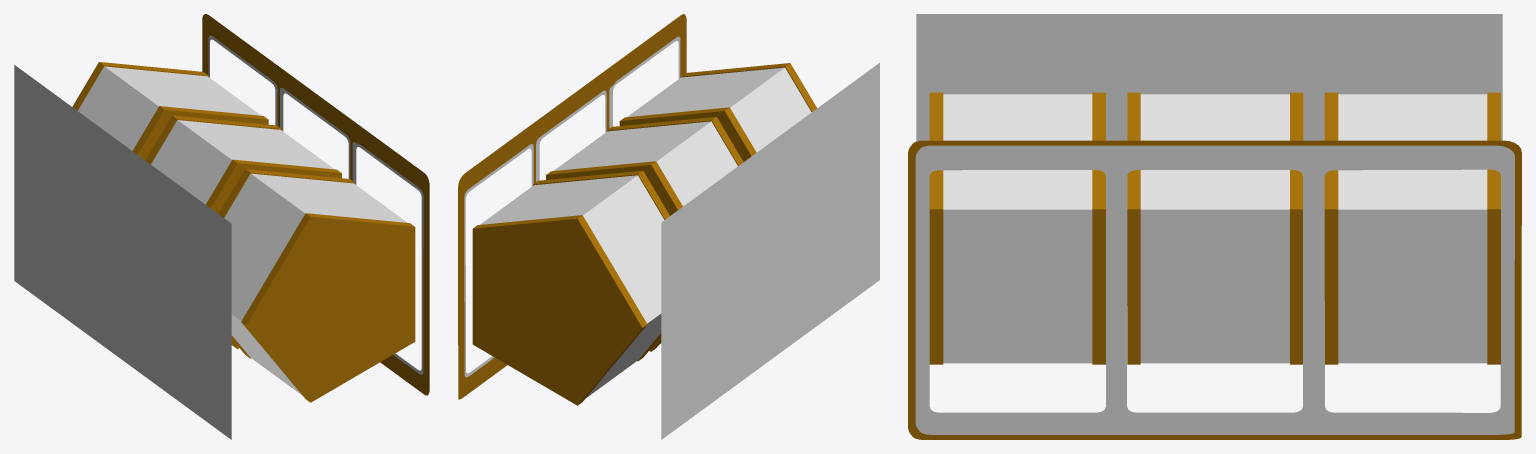
Rendered from Slot.fbx.
The picture shows the model from 3 angles, left to right: view 1: azimuth 30°, elevation 25°; view 2: azimuth 150°, elevation 25°; view 3: azimuth 270°, elevation 25°; orthographic projection. The views are drawn at different scales.
Parts seen in each view (by area): view 1: Plane.032, Cylinder.019, Cylinder.011, Cylinder.015, Plane.031, Cylinder.013, Cylinder.027, Cylinder.031, Plane.033, Cylinder.035, Cylinder.023, Cylinder.025 (+4 smaller); view 2: Plane.032, Cylinder.024, Cylinder.015, Plane.031, Cylinder.011, Cylinder.013, Cylinder.035, Cylinder.031, Cylinder.026, Plane.033, Cylinder.021, Cylinder.017 (+5 smaller); view 3: Plane.032, Plane.033, Cylinder.011, Cylinder.015, Cylinder.013, icon, icon.001, icon.002, Plane.031, Cylinder.019, Cylinder.025, Cylinder.024 (+6 smaller).
Part boxes in pixels (bbox=[...]): Plane.032: bbox=[14, 65, 231, 439]; Cylinder.019: bbox=[241, 213, 415, 402]; Cylinder.011: bbox=[224, 173, 407, 395]; Cylinder.015: bbox=[78, 66, 260, 150]; Plane.031: bbox=[202, 14, 429, 395]; Cylinder.013: bbox=[172, 120, 325, 203]; Cylinder.027: bbox=[151, 120, 231, 204]; Cylinder.031: bbox=[226, 175, 303, 320]; Plane.033: bbox=[208, 35, 423, 374]; Cylinder.035: bbox=[78, 69, 158, 150]; Cylinder.023: bbox=[205, 159, 341, 348]; Cylinder.025: bbox=[133, 106, 268, 160]; Plane.032: bbox=[661, 63, 879, 439]; Cylinder.024: bbox=[472, 215, 647, 405]; Cylinder.015: bbox=[480, 175, 664, 375]; Plane.031: bbox=[458, 14, 686, 399]; Cylinder.011: bbox=[627, 67, 811, 151]; Cylinder.013: bbox=[554, 121, 737, 206]; Cylinder.035: bbox=[584, 181, 662, 323]; Cylinder.031: bbox=[730, 68, 811, 152]; Cylinder.026: bbox=[561, 124, 678, 165]; Plane.033: bbox=[464, 36, 680, 377]; Cylinder.021: bbox=[546, 161, 682, 351]; Cylinder.017: bbox=[619, 107, 756, 161]; Plane.032: bbox=[916, 14, 1502, 305]; Plane.033: bbox=[915, 145, 1514, 434]; Cylinder.011: bbox=[943, 94, 1092, 363]; Cylinder.015: bbox=[1338, 94, 1487, 363]; Cylinder.013: bbox=[1140, 94, 1289, 363]; icon: bbox=[1140, 209, 1289, 363]; icon.001: bbox=[943, 209, 1092, 363]; icon.002: bbox=[1338, 209, 1487, 363]; Plane.031: bbox=[908, 140, 1521, 439]; Cylinder.019: bbox=[929, 92, 943, 364]; Cylinder.025: bbox=[1324, 92, 1338, 364]; Cylinder.024: bbox=[1487, 92, 1500, 364].
Bounding box in the file's own units: 13089 × 14218 × 26417.
